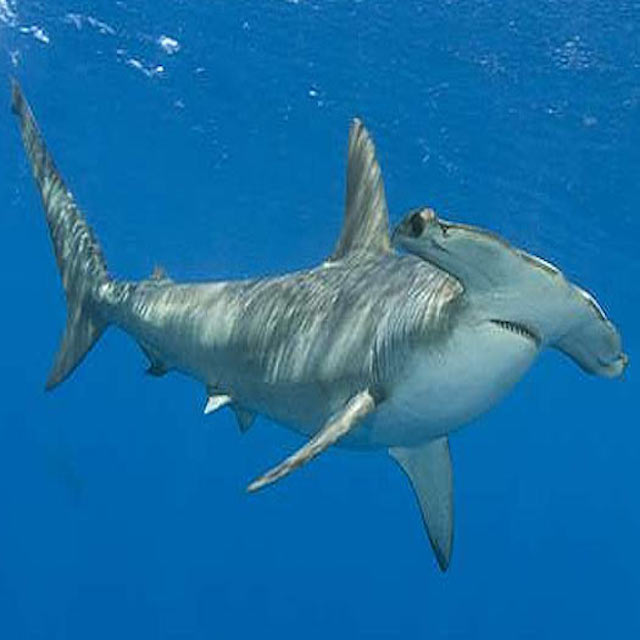hammerhead: (24, 131, 604, 539)
